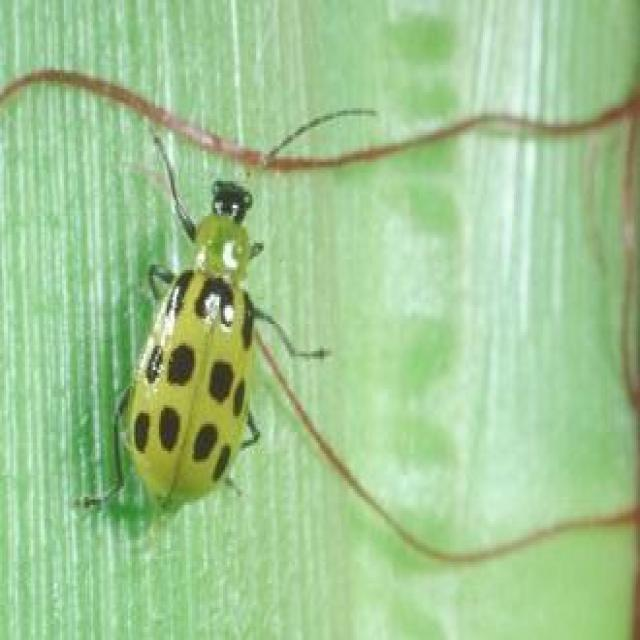gusano_verde: (95, 119, 304, 546)
